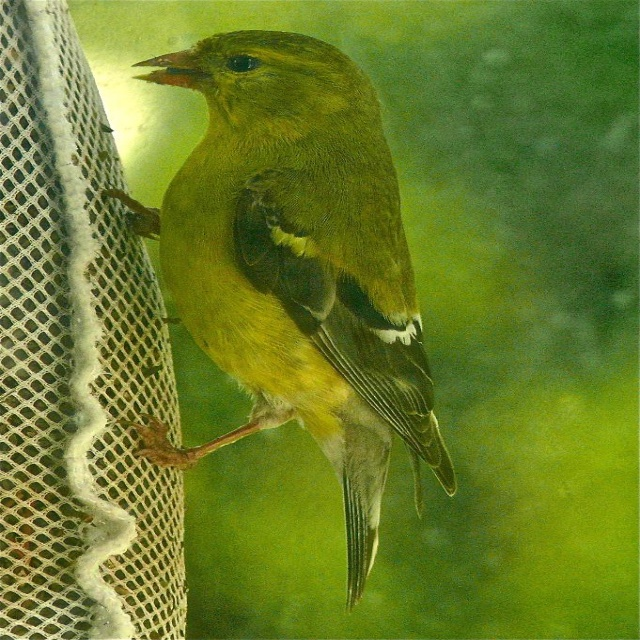Canary: (102, 26, 466, 616)
